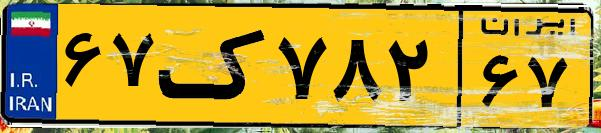2: (385, 28, 445, 110)
6: (57, 26, 110, 100), (475, 38, 525, 113)
7: (270, 28, 330, 110), (525, 38, 570, 115), (110, 28, 158, 98)
8: (330, 28, 385, 110)
ک: (158, 12, 270, 120)
